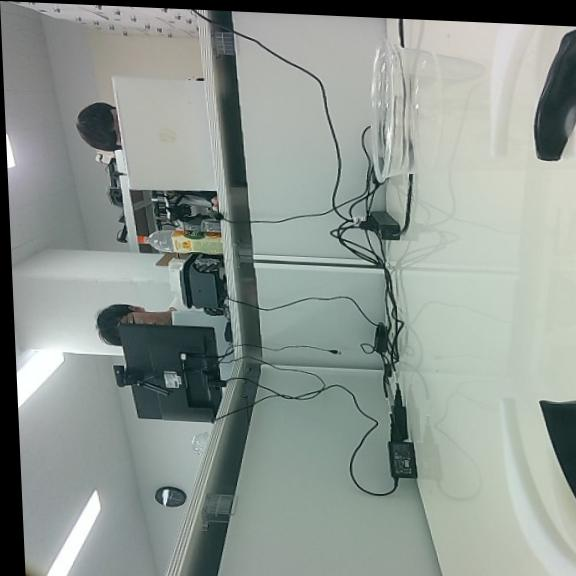Plastik: (373, 42, 576, 179)
